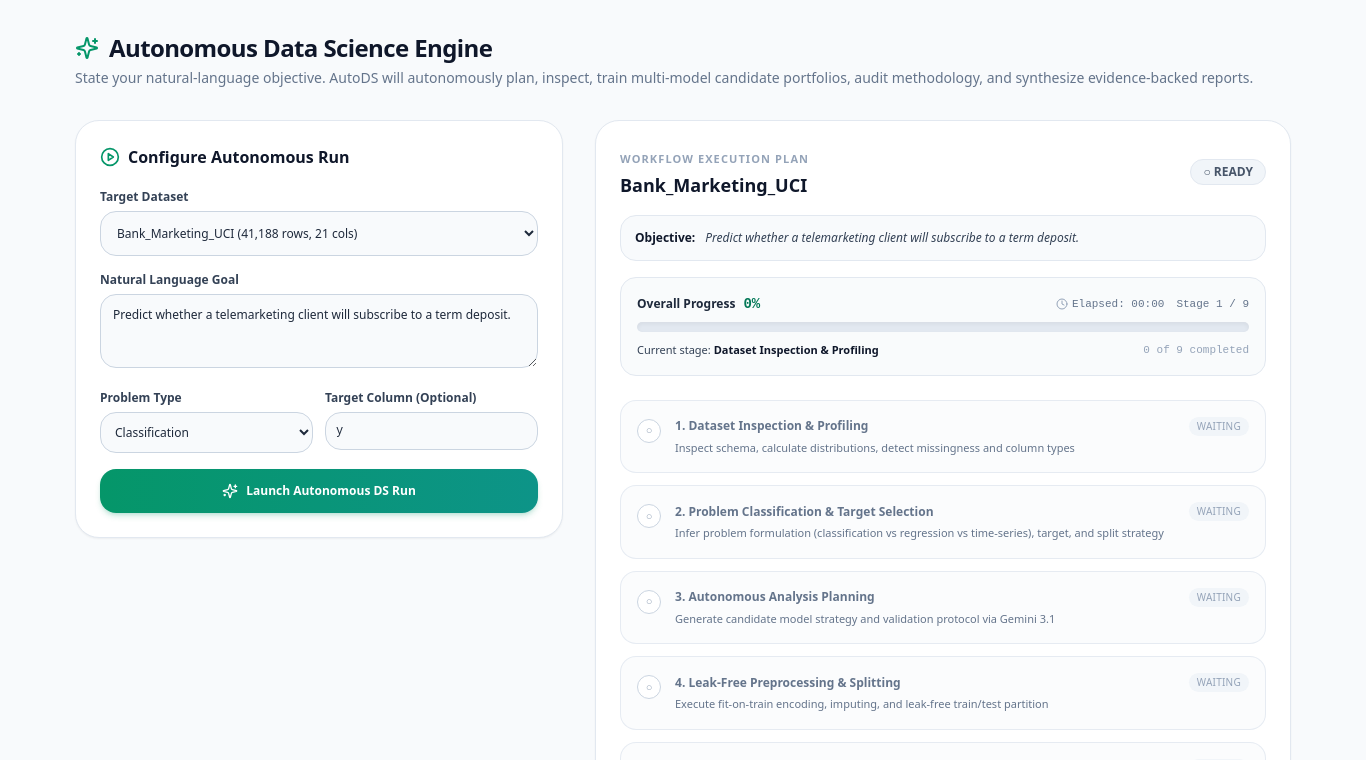
Test case: AnalysisPage State Synchronization & Polling Flow › captures created analysis ID on POST and transitions RUNNING -> COMPLETED via status polling
Note: Click Launch Autonomous Run
Click the button "Launch Autonomous DS Run" at (319, 491), box [100,469,538,513]
(page scrolled)
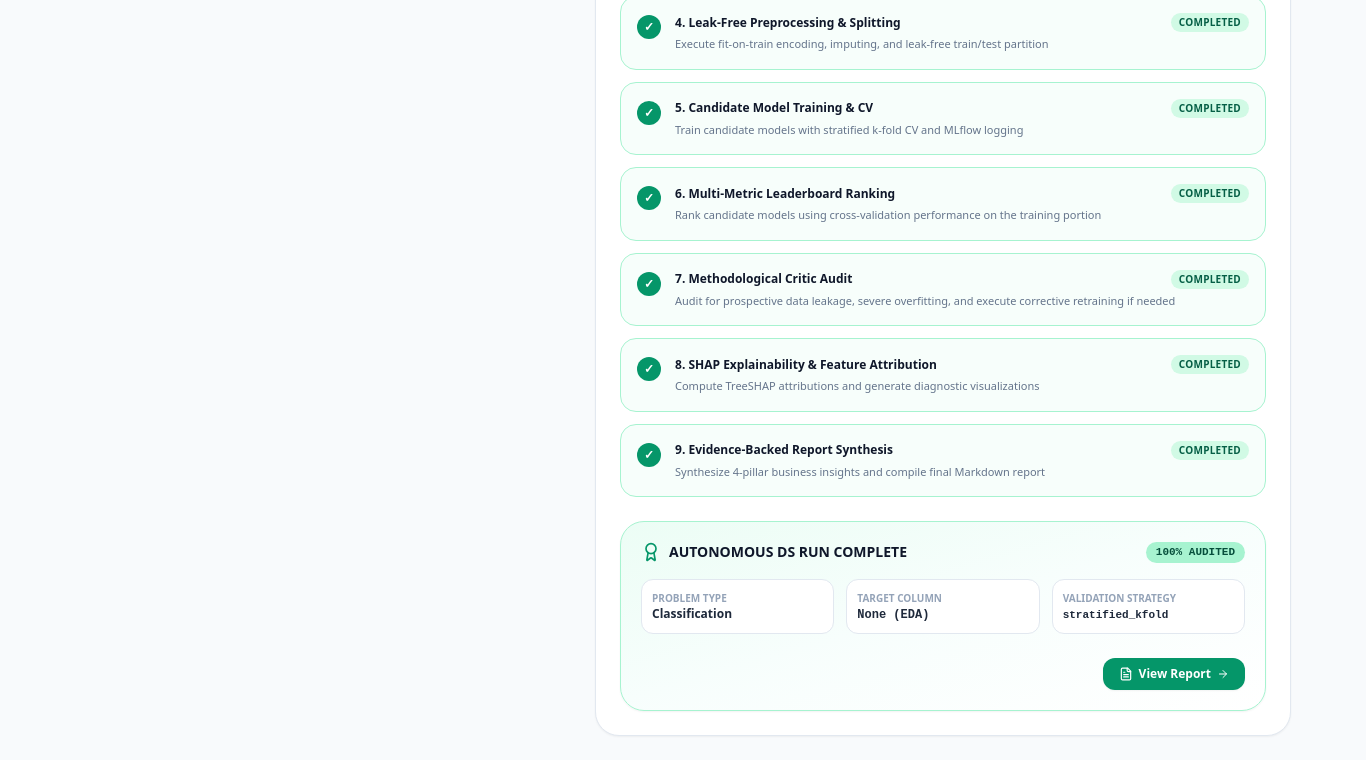
Expected: the heading "AUTONOMOUS DS RUN COMPLETE" is shown, [669,542,907,562]
